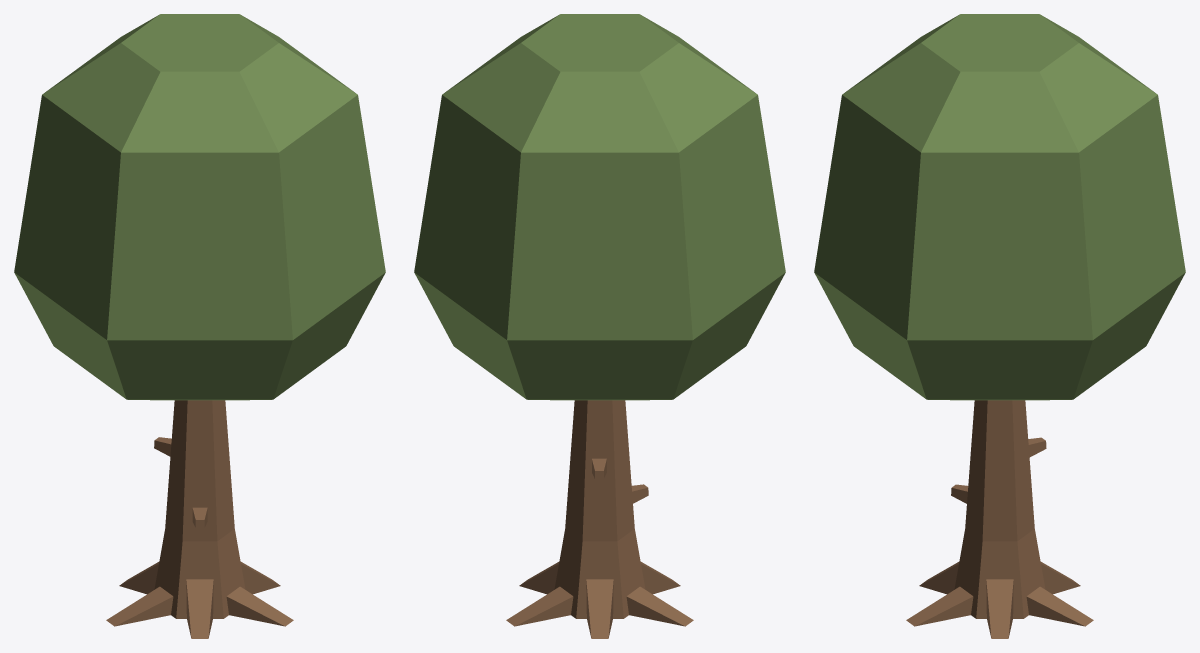
Rendered from tree_oak.glb.
3 renders of one model, left to right at view 1: azimuth 30°, elevation 25°; view 2: azimuth 150°, elevation 25°; view 3: azimuth 270°, elevation 25°, orthographic.
Parts seen in each view (by area): view 1: tree_oak; view 2: tree_oak; view 3: tree_oak.
Boxes of the visible parts, x1,y1,x2,y2 form: tree_oak: [14, 14, 385, 638]; tree_oak: [414, 14, 785, 638]; tree_oak: [814, 14, 1185, 638].
Size of the model in its own units: 0.6406 by 1.23 by 0.7396.
